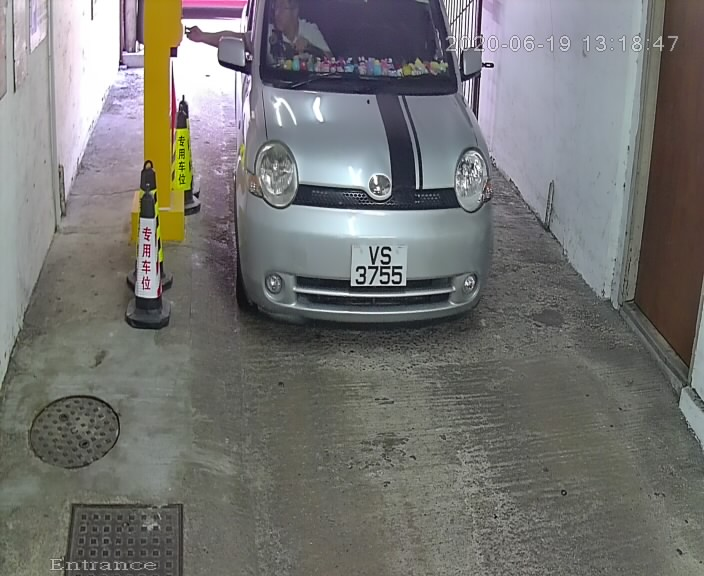privatecar: (201, 1, 528, 340)
